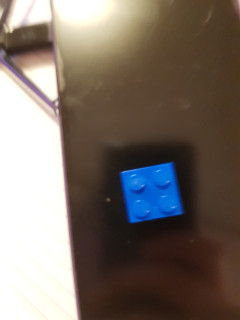2x2 blue: (117, 160, 186, 226)
